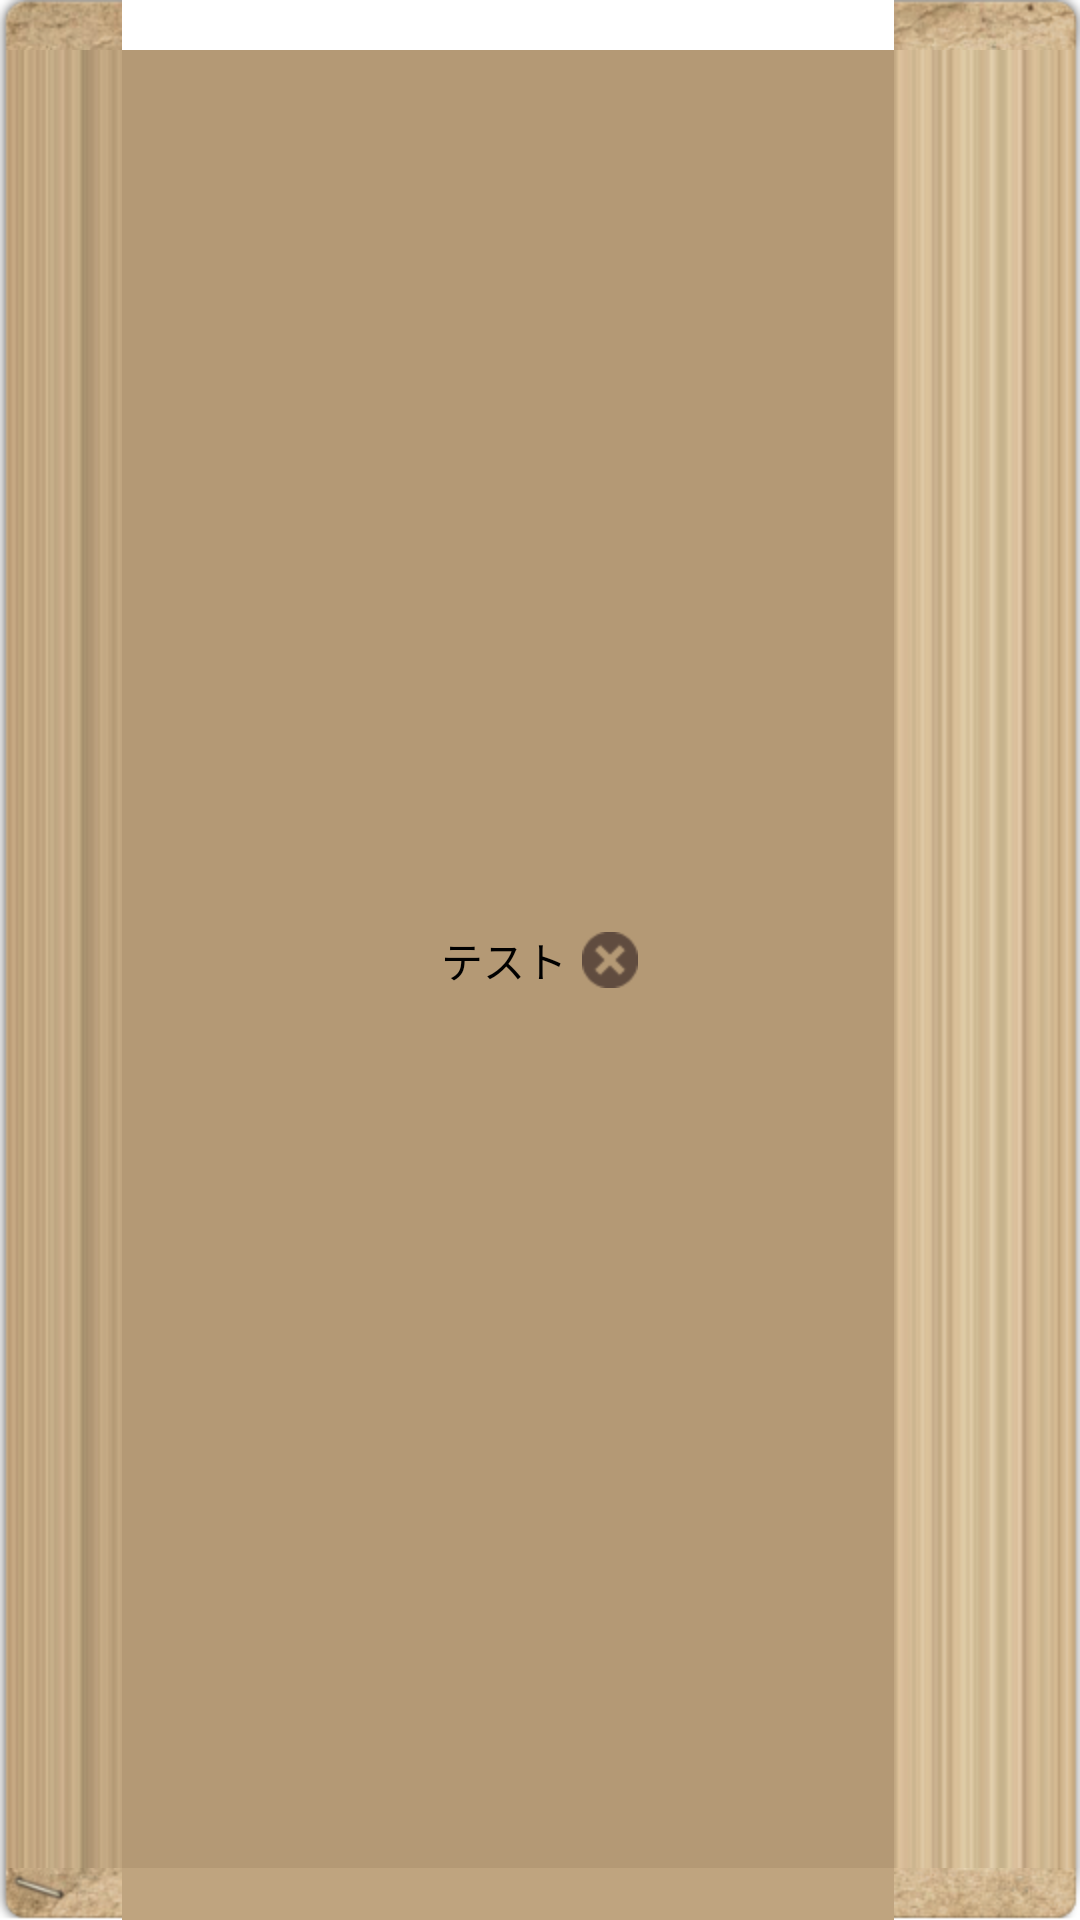

Where to tap for icons on this 1080×1920 app screen, as (x,y):
set fav delete: (610,960)
